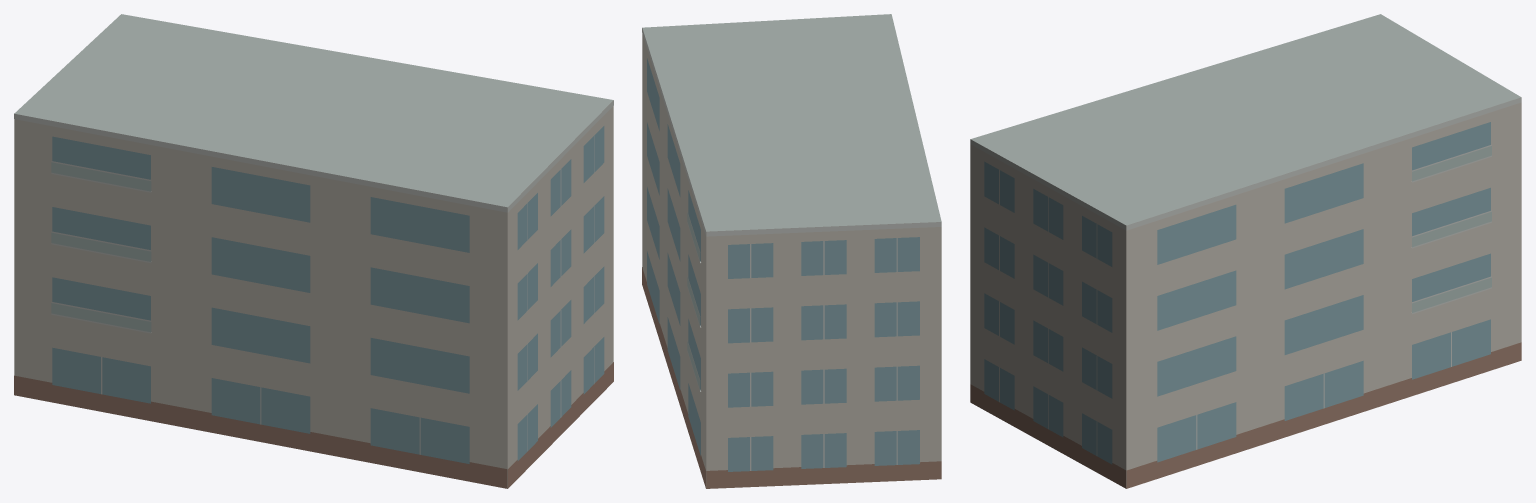
The model's file is survey-upis-32822350.glb.
3 views of the same model, side by side, from view 1: azimuth 30°, elevation 25°; view 2: azimuth 150°, elevation 25°; view 3: azimuth 270°, elevation 25° (orthographic). The views are drawn at different scales.
Parts seen in each view (by area): view 1: survey-upis-32822350.tmp; view 2: survey-upis-32822350.tmp; view 3: survey-upis-32822350.tmp.
Boxes of the visible parts, left/top/right/bottom form: survey-upis-32822350.tmp: left=14, top=14, right=613, bottom=488; survey-upis-32822350.tmp: left=642, top=14, right=941, bottom=488; survey-upis-32822350.tmp: left=970, top=14, right=1521, bottom=488.
Size of the model in its own units: 21.72 by 12.6 by 23.91.
